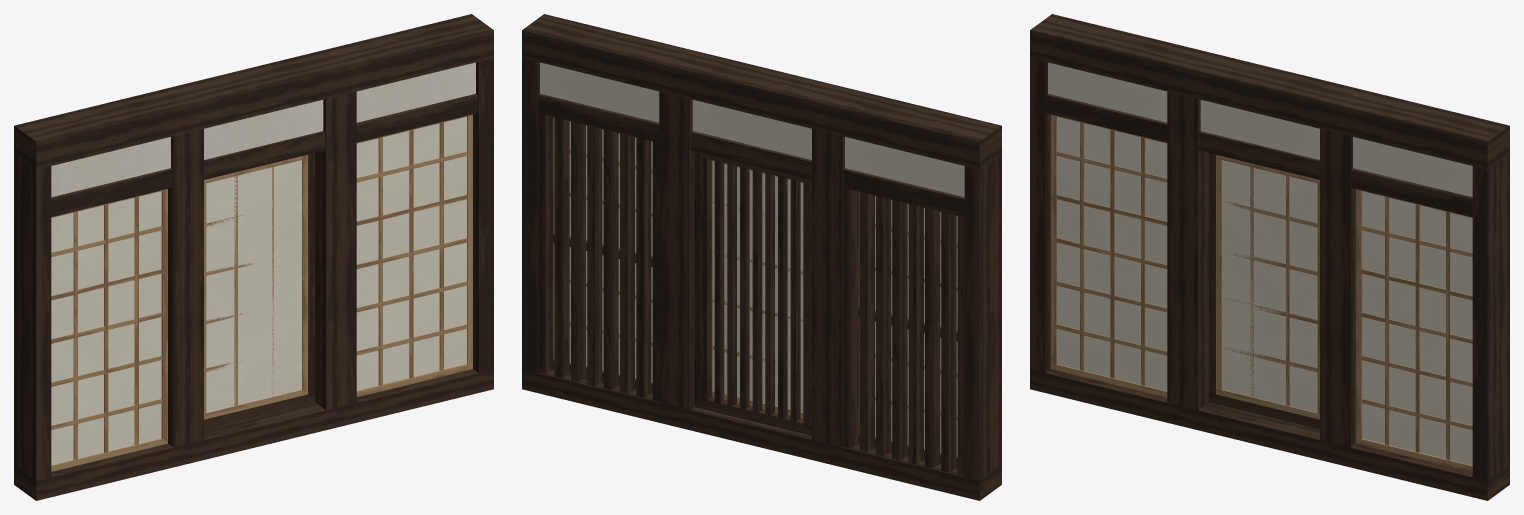
Rendered from HO_Wall_Front_Koshi_12.fbx.
The picture shows the model from 3 angles, left to right: view 1: azimuth 30°, elevation 25°; view 2: azimuth 150°, elevation 25°; view 3: azimuth 330°, elevation 25°; orthographic projection.
Visible parts, largest first — view 1: HO_Wall_Front_Koshi_12__Timber_Dark, HO_Wall_Front_Koshi_12__Shoji_Paper, HO_Wall_Front_Koshi_12_Door__Shoji_Paper, HO_Wall_Front_Koshi_12__Timber_Light, HO_Wall_Front_Koshi_12__Plaster_White, HO_Wall_Front_Koshi_12_Door__Timber_Light, HO_Wall_Front_Koshi_12_Door__Timber_Dark; view 2: HO_Wall_Front_Koshi_12__Timber_Dark, HO_Wall_Front_Koshi_12_Door__Timber_Dark, HO_Wall_Front_Koshi_12__Plaster_White, HO_Wall_Front_Koshi_12_Door__Shoji_Paper, HO_Wall_Front_Koshi_12__Shoji_Paper, HO_Wall_Front_Koshi_12__Timber_Light, HO_Wall_Front_Koshi_12_Door__Timber_Light; view 3: HO_Wall_Front_Koshi_12__Timber_Dark, HO_Wall_Front_Koshi_12__Shoji_Paper, HO_Wall_Front_Koshi_12_Door__Shoji_Paper, HO_Wall_Front_Koshi_12__Timber_Light, HO_Wall_Front_Koshi_12__Plaster_White, HO_Wall_Front_Koshi_12_Door__Timber_Light, HO_Wall_Front_Koshi_12_Door__Timber_Dark.
Part boxes in pixels (x1=…): HO_Wall_Front_Koshi_12__Timber_Dark: x1=14, y1=14, x2=493, y2=500; HO_Wall_Front_Koshi_12__Shoji_Paper: x1=51, y1=116, x2=466, y2=465; HO_Wall_Front_Koshi_12_Door__Shoji_Paper: x1=206, y1=160, x2=301, y2=412; HO_Wall_Front_Koshi_12__Timber_Light: x1=51, y1=114, x2=472, y2=471; HO_Wall_Front_Koshi_12__Plaster_White: x1=51, y1=62, x2=475, y2=197; HO_Wall_Front_Koshi_12_Door__Timber_Light: x1=204, y1=154, x2=307, y2=419; HO_Wall_Front_Koshi_12_Door__Timber_Dark: x1=204, y1=153, x2=314, y2=429; HO_Wall_Front_Koshi_12__Timber_Dark: x1=522, y1=14, x2=1001, y2=500; HO_Wall_Front_Koshi_12_Door__Timber_Dark: x1=694, y1=151, x2=811, y2=435; HO_Wall_Front_Koshi_12__Plaster_White: x1=540, y1=62, x2=964, y2=197; HO_Wall_Front_Koshi_12_Door__Shoji_Paper: x1=712, y1=161, x2=803, y2=412; HO_Wall_Front_Koshi_12__Shoji_Paper: x1=569, y1=121, x2=957, y2=455; HO_Wall_Front_Koshi_12__Timber_Light: x1=553, y1=117, x2=957, y2=457; HO_Wall_Front_Koshi_12_Door__Timber_Light: x1=711, y1=160, x2=803, y2=418; HO_Wall_Front_Koshi_12__Timber_Dark: x1=1030, y1=14, x2=1509, y2=500; HO_Wall_Front_Koshi_12__Shoji_Paper: x1=1057, y1=116, x2=1472, y2=465; HO_Wall_Front_Koshi_12_Door__Shoji_Paper: x1=1222, y1=160, x2=1317, y2=412; HO_Wall_Front_Koshi_12__Timber_Light: x1=1051, y1=114, x2=1472, y2=471; HO_Wall_Front_Koshi_12__Plaster_White: x1=1048, y1=62, x2=1472, y2=197; HO_Wall_Front_Koshi_12_Door__Timber_Light: x1=1216, y1=154, x2=1319, y2=419; HO_Wall_Front_Koshi_12_Door__Timber_Dark: x1=1209, y1=153, x2=1319, y2=429.
Size of the model in its own units: 12 by 9 by 1.
